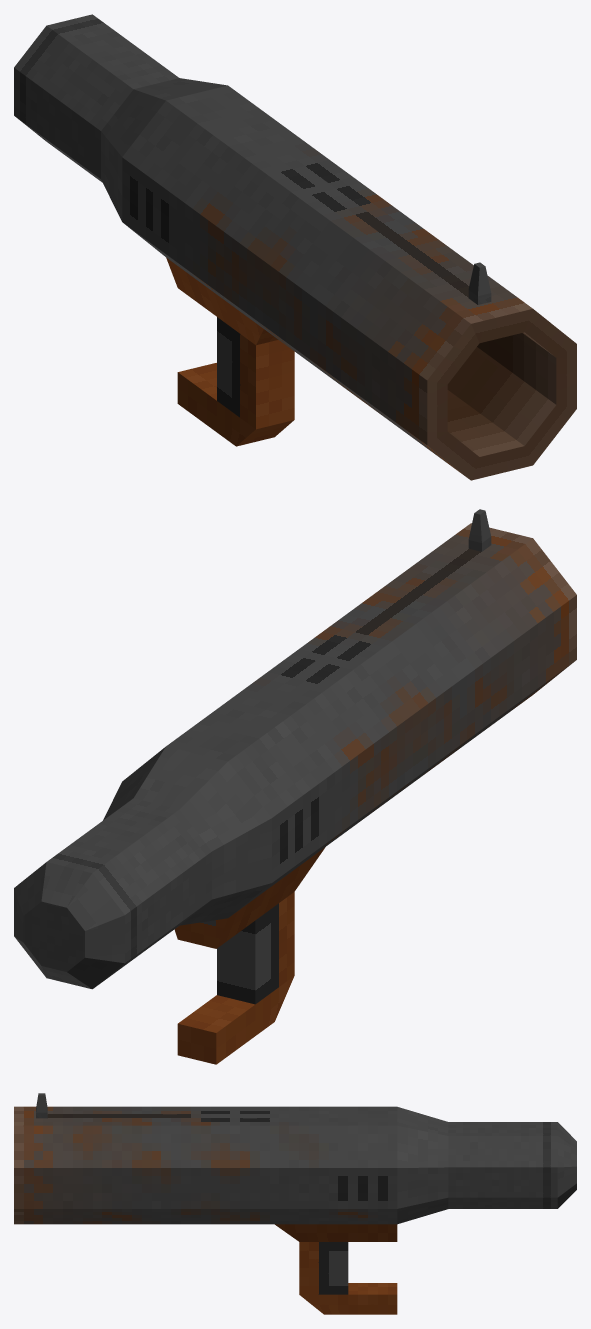
The model's file is rocket_launcher.gltf.
3 views of the same model, one above another, from view 1: azimuth 30°, elevation 25°; view 2: azimuth 150°, elevation 25°; view 3: azimuth 270°, elevation 25° (orthographic). The views are drawn at different scales.
Parts seen in each view (by area): view 1: RocketLauncher; view 2: RocketLauncher; view 3: RocketLauncher.
Boxes of the visible parts, left/top/right/bottom form: RocketLauncher: left=14, top=14, right=576, bottom=480; RocketLauncher: left=14, top=509, right=576, bottom=1064; RocketLauncher: left=14, top=1093, right=576, bottom=1314.
Size of the model in its own units: 0.4773 by 1.04 by 2.47.
Materials: 1 (1 with a texture image).
